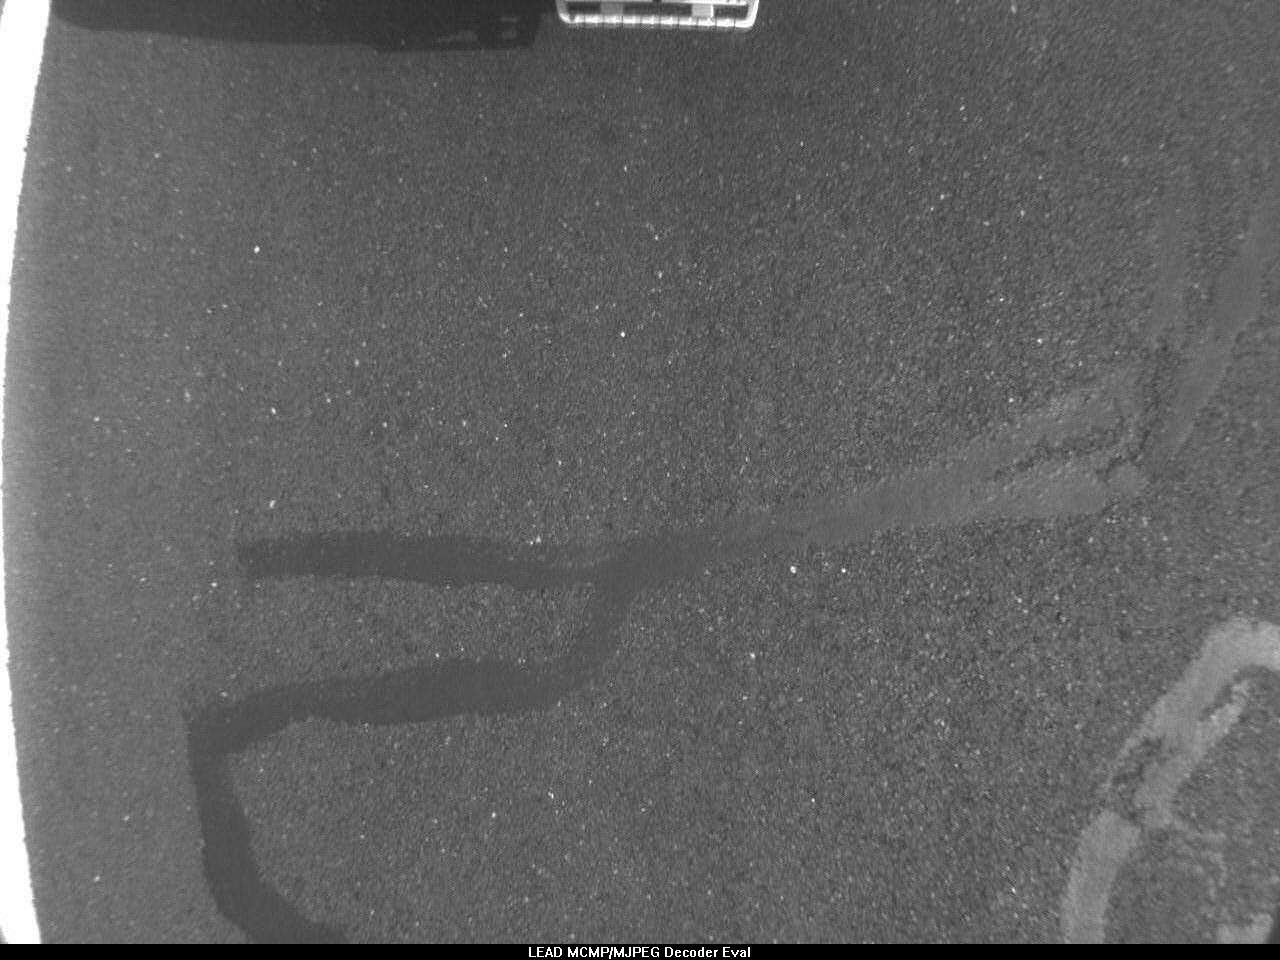sealed: (159, 502, 645, 940)
